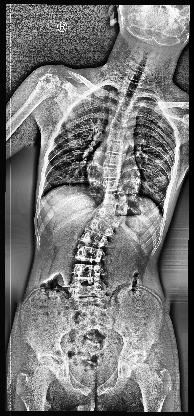Vertebrae: (68, 265, 108, 279), (69, 246, 108, 260), (75, 231, 113, 245), (82, 220, 122, 232), (72, 282, 106, 296), (93, 209, 127, 222), (103, 113, 137, 126), (96, 165, 125, 179), (97, 194, 133, 204), (100, 140, 130, 152), (114, 91, 144, 103), (102, 128, 131, 140), (118, 77, 146, 89), (96, 181, 128, 191), (98, 154, 129, 164), (110, 101, 137, 112)
